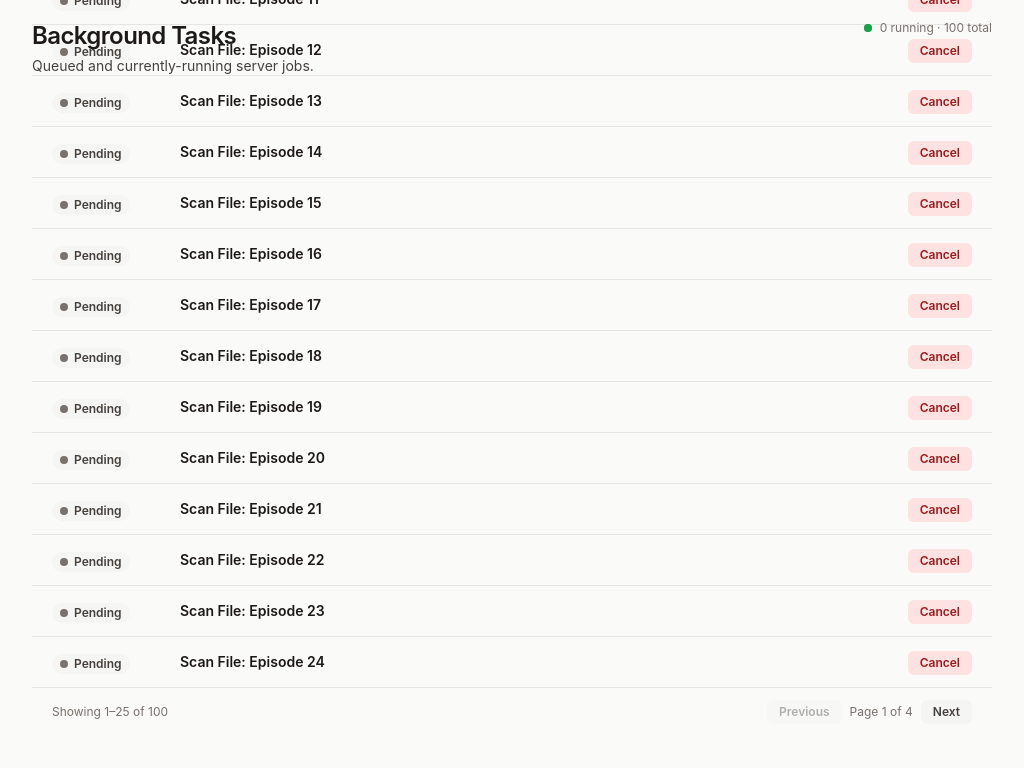
Test: TaskDashboard › follows the queue back when it drains past the current page
(page scrolled)
Check: the text "Page 1 of 4" is shown, box [850,704,913,720]
Click the button "Next": click(946, 712) [921,700,972,724]
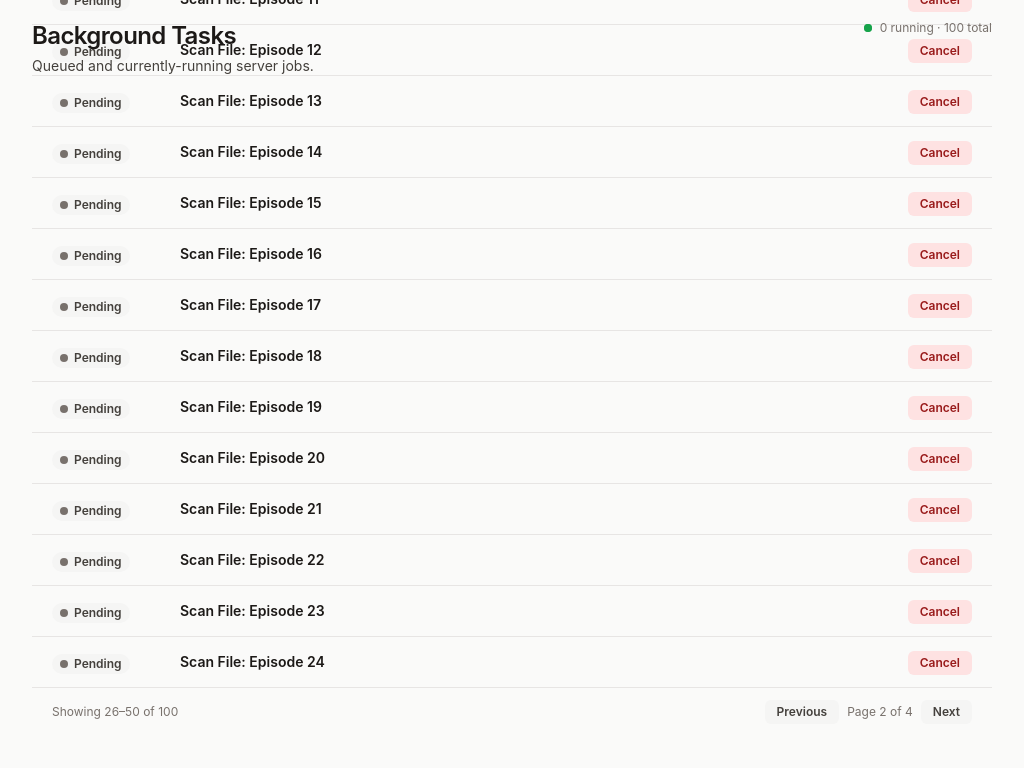
Check: the text "Page 2 of 4" is shown, box [847,704,913,720]
Click the button "Next": click(946, 712) [921,700,972,724]
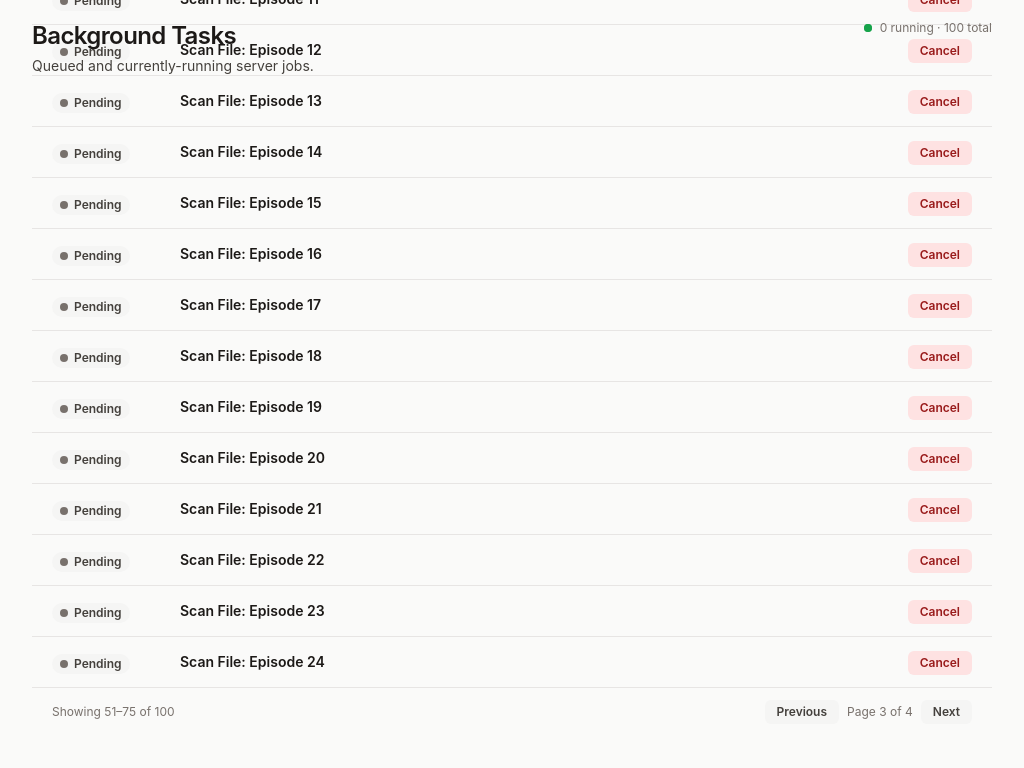
Check: the text "Page 3 of 4" is shown, box [847,704,913,720]
Click the button "Next": click(946, 712) [921,700,972,724]
(page scrolled)
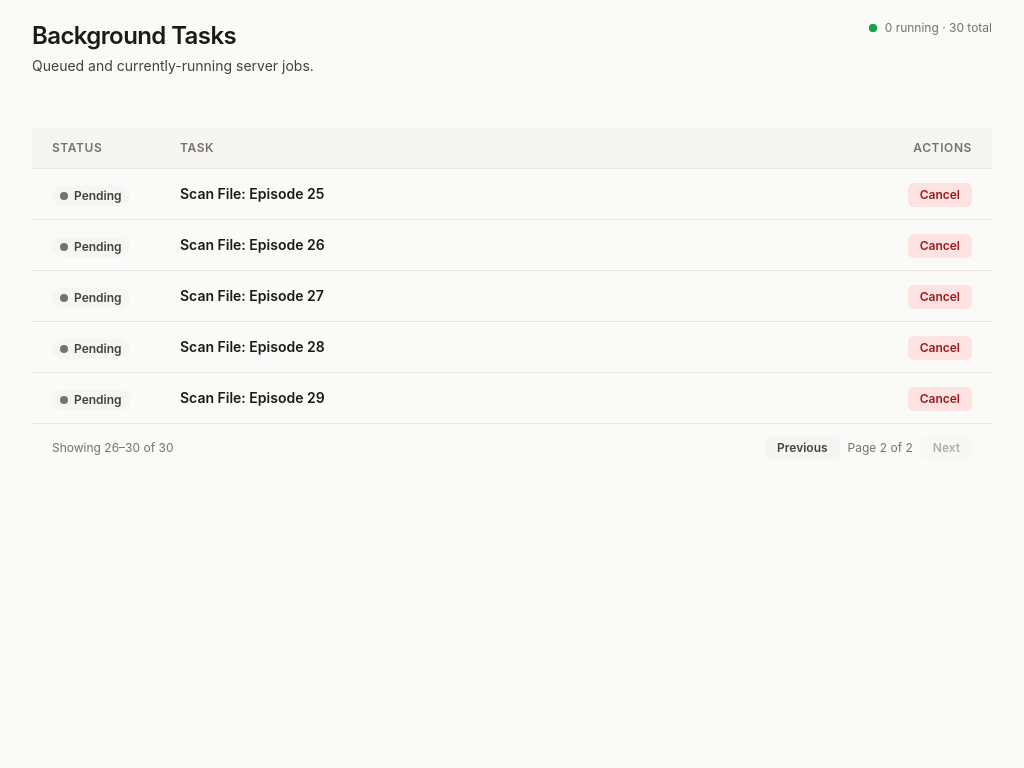
Check: the text "Page 2 of 2" is shown, box [848,440,913,456]
Check: the button "Next" is disabled, box [921,436,972,460]
